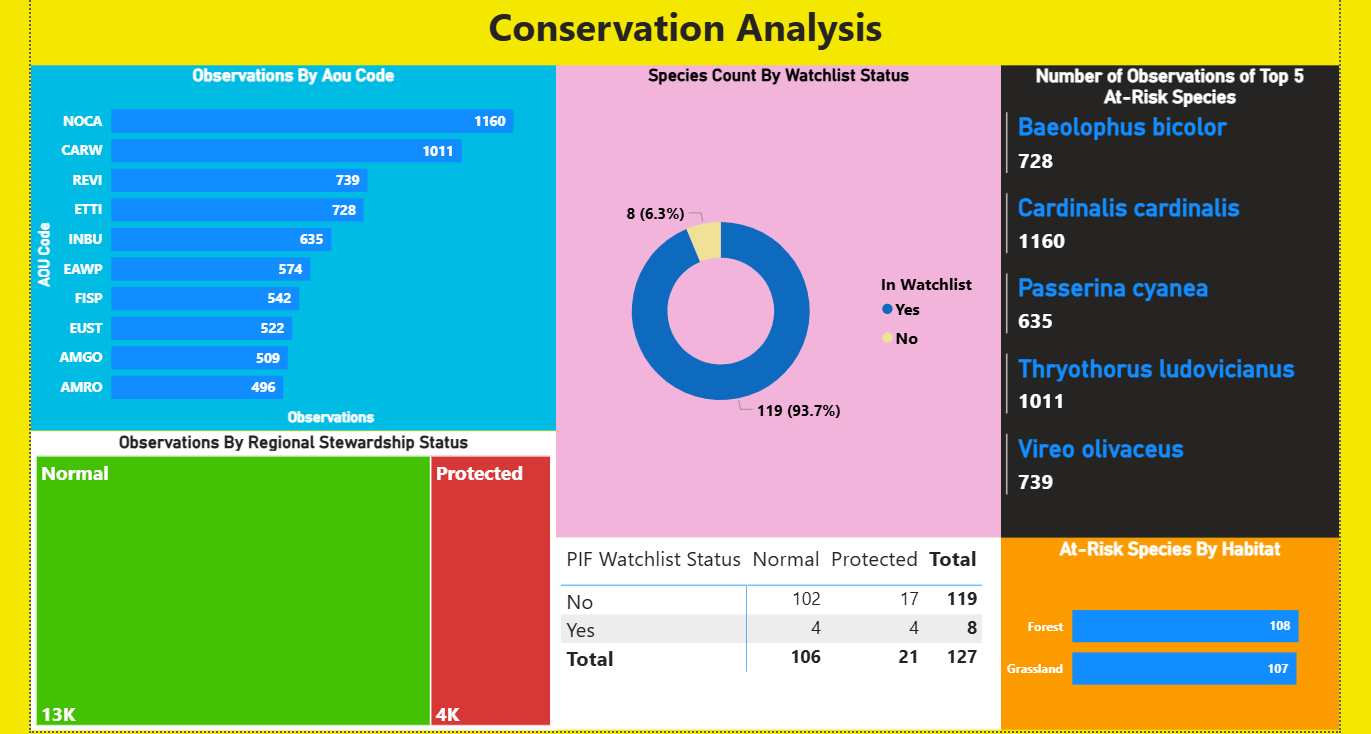

The page's visual inventory and layout, read from the dashboard file:
{"tool":"powerbi","page":{"name":"Conservation Analysis","canvas":[1280,720],"ordinal":6},"visuals":[{"type":"donutChart","title":"Species Count By Watchlist Status","fields":{"Category":["threatened_vs_not_threatened.pif_watchlist_status"],"Y":["Sum(threatened_vs_not_threatened.species_count)"]},"box":[513.7,68.6,435.7,462.6],"z":0},{"type":"treemap","title":"Observations By Regional Stewardship Status","fields":{"Values":["Sum(regional_stewardship.observations)"],"Group":["regional_stewardship.regional_stewardship_status"]},"box":[0,426.3,513.7,293.2],"z":1000},{"type":"pivotTable","fields":{"Rows":["conservation_priority.pif_watchlist_status"],"Columns":["conservation_priority.regional_stewardship_status"],"Values":["Sum(conservation_priority.species_count)"]},"box":[513.7,531.2,435.7,188.3],"z":2000},{"type":"barChart","title":"Observations By Aou Code","fields":{"Category":["AOU_distribution.aou_code"],"Y":["Sum(AOU_distribution.observations)"]},"box":[0,68.6,513.7,357.7],"z":3000},{"type":"clusteredBarChart","title":"At-Risk Species By Habitat","fields":{"Category":["at_risk_species_by_habitat.habitat"],"Y":["Sum(at_risk_species_by_habitat.at_risk_species)"]},"box":[949.4,531.2,330.8,188.3],"z":4000},{"type":"multiRowCard","title":"Number of Observations of Top 5 At-Risk Species","fields":{"Values":["top_at_risk_species.scientific_name","Sum(top_at_risk_species.observations)"]},"box":[949.4,68.6,330.8,462.6],"z":5000},{"type":"textbox","box":[0,0,1280.3,68.6],"z":6000}]}

Visuals, with their boxes on the page's 1280x720 design canvas (x1, y1, x2, y2). These are canvas units, not pixel positions in the 1371x734 screenshot, which may show the page scaled, cropped or inside an application window:
"Species Count By Watchlist Status" donutChart: select_region(514, 69, 949, 531)
"Observations By Regional Stewardship Status" treemap: select_region(0, 426, 514, 720)
pivotTable - conservation_priority.pif_watchlist_status x conservation_priority.regional_stewardship_status: select_region(514, 531, 949, 720)
"Observations By Aou Code" barChart: select_region(0, 69, 514, 426)
"At-Risk Species By Habitat" clusteredBarChart: select_region(949, 531, 1280, 720)
"Number of Observations of Top 5 At-Risk Species" multiRowCard: select_region(949, 69, 1280, 531)
textbox: select_region(0, 0, 1280, 69)
